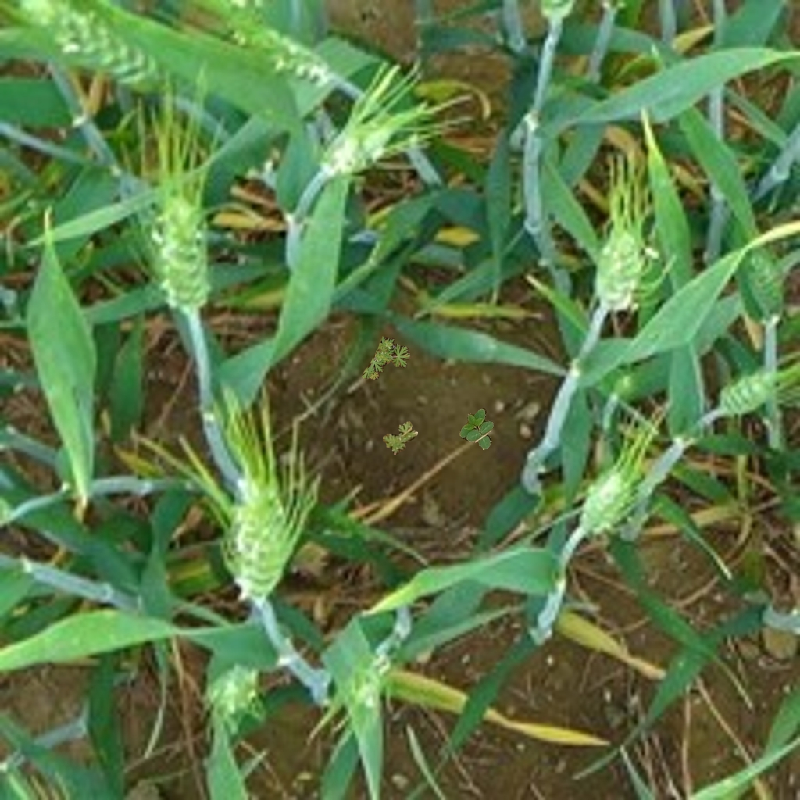spikelet: (8, 1, 172, 97), (208, 1, 341, 92), (219, 467, 297, 604), (147, 185, 215, 312), (590, 218, 651, 315), (315, 112, 396, 181), (709, 357, 786, 422), (576, 463, 637, 537), (198, 656, 265, 720), (742, 234, 785, 314)
weed: (456, 402, 505, 453), (362, 335, 411, 380), (383, 421, 418, 455)
